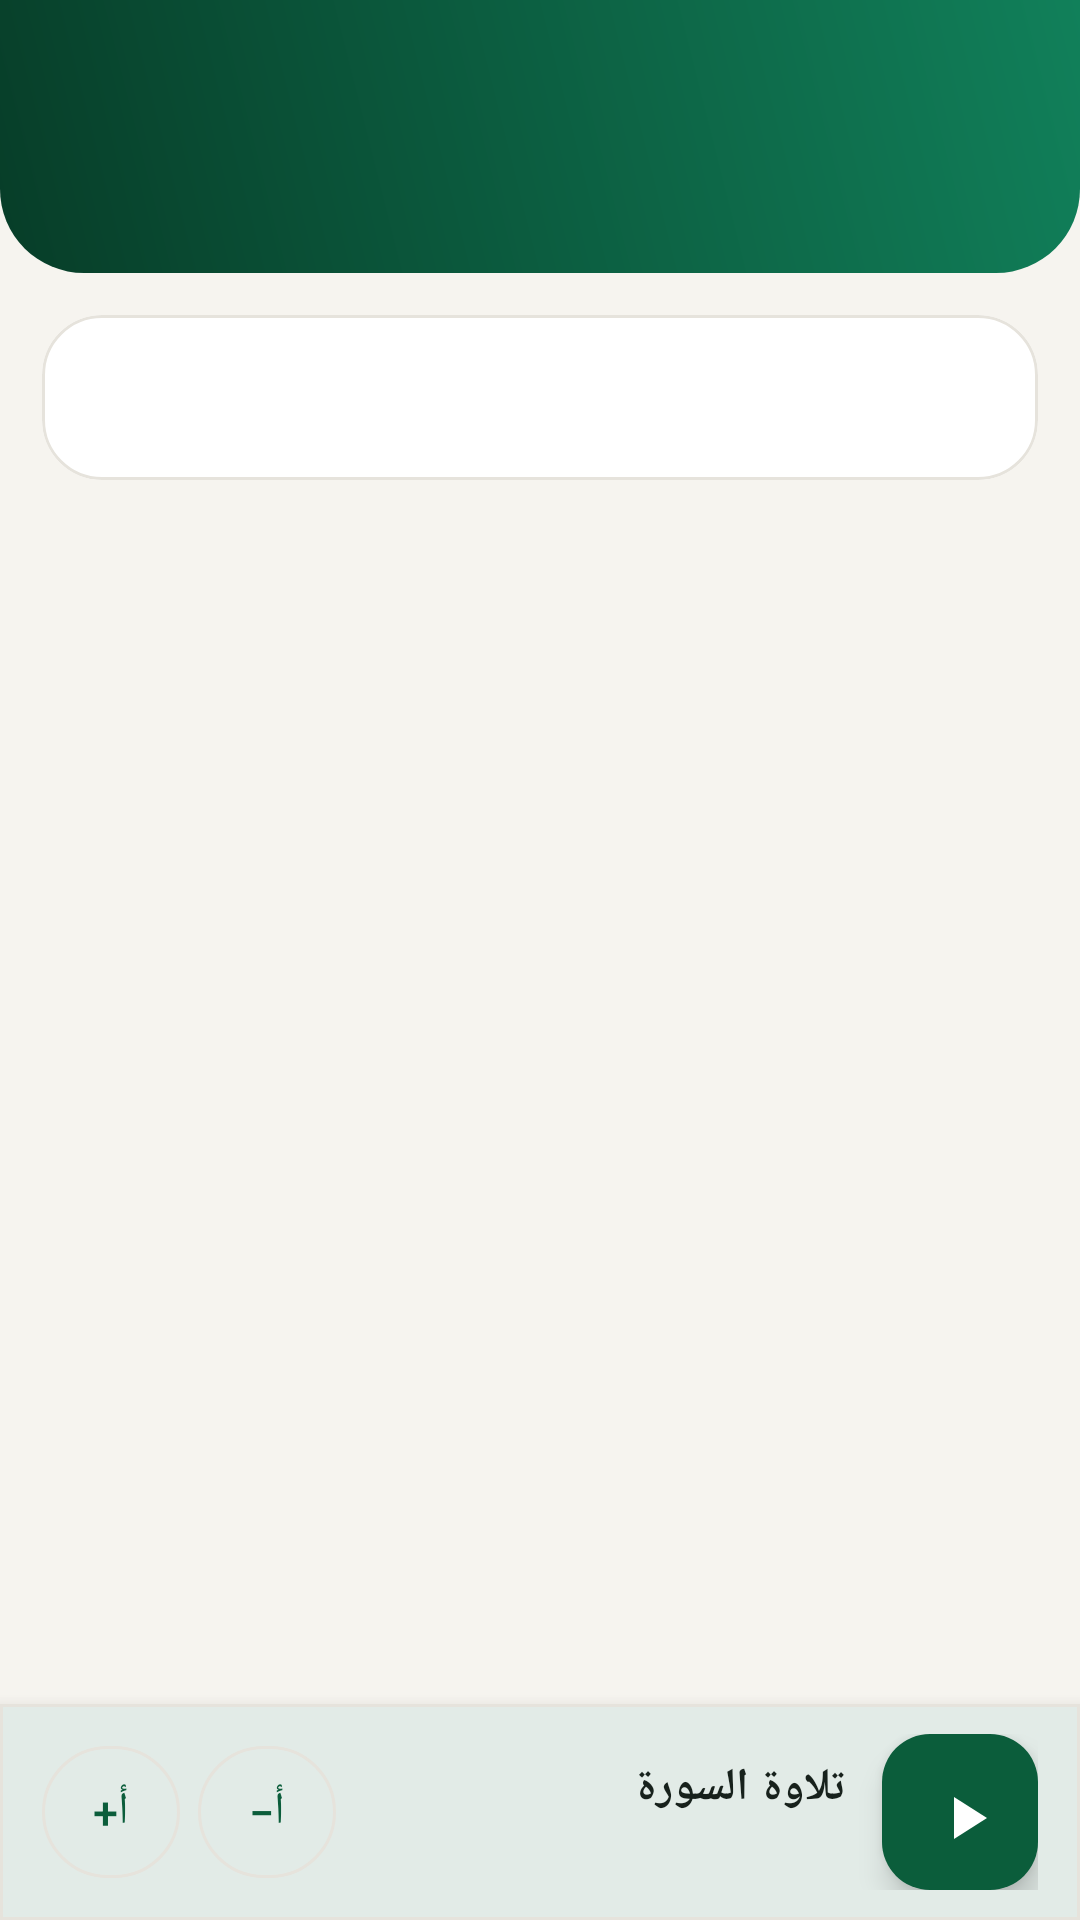

Icon click points for this 1080px×1920px phone screenshot, format point (x, y):
تشغيل: point (960, 1812)
